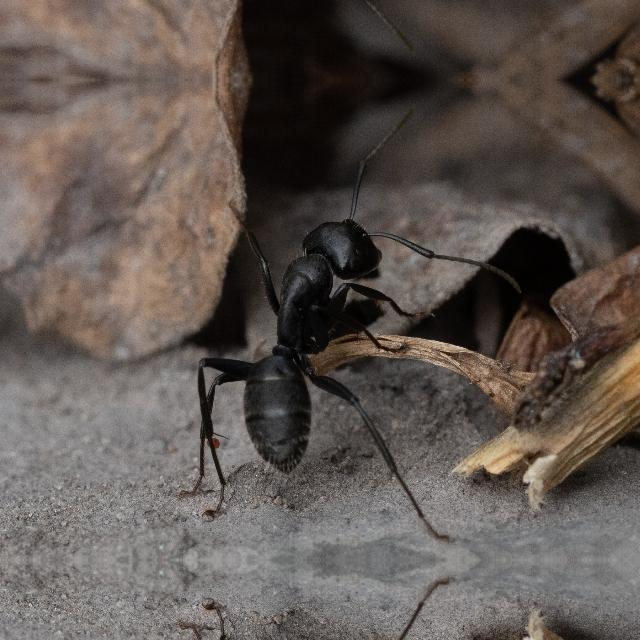Camponotus: (198, 194, 406, 478)
